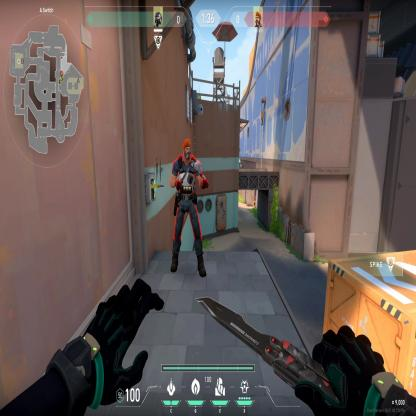enemy: (167, 132, 208, 282)
